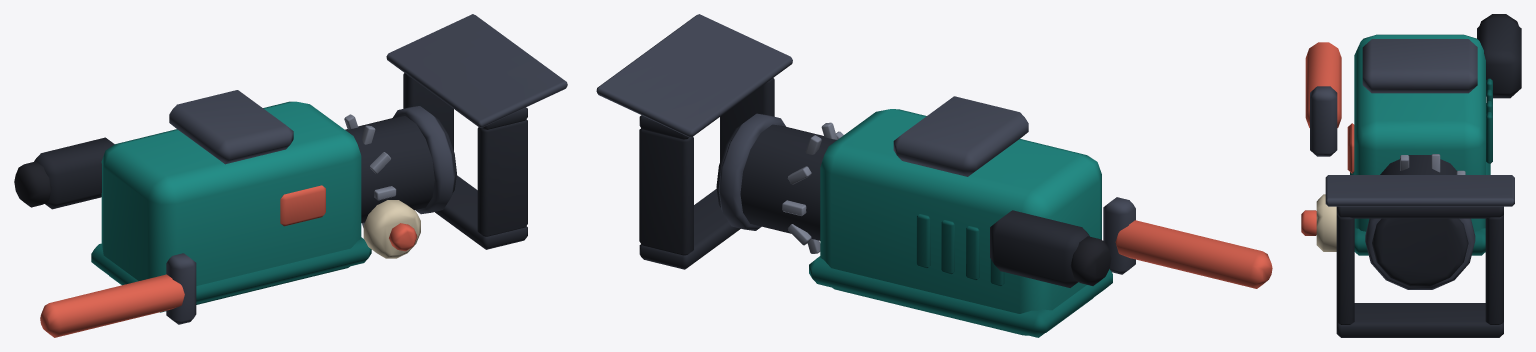
The model's file is SM_Station_FilmCamera_Body.fbx.
3 renders of one model, left to right at view 1: azimuth 30°, elevation 25°; view 2: azimuth 150°, elevation 25°; view 3: azimuth 270°, elevation 25°, orthographic. The views are drawn at different scales.
Visible parts, largest first — view 1: SM_Station_FilmCamera_Body; view 2: SM_Station_FilmCamera_Body; view 3: SM_Station_FilmCamera_Body.
Boxes of the visible parts, x1=… form: SM_Station_FilmCamera_Body: x1=14, y1=14, x2=567, y2=337; SM_Station_FilmCamera_Body: x1=596, y1=14, x2=1272, y2=337; SM_Station_FilmCamera_Body: x1=1301, y1=14, x2=1521, y2=337.
Bounding box in the file's own units: 139 × 40.17 × 50.18.
